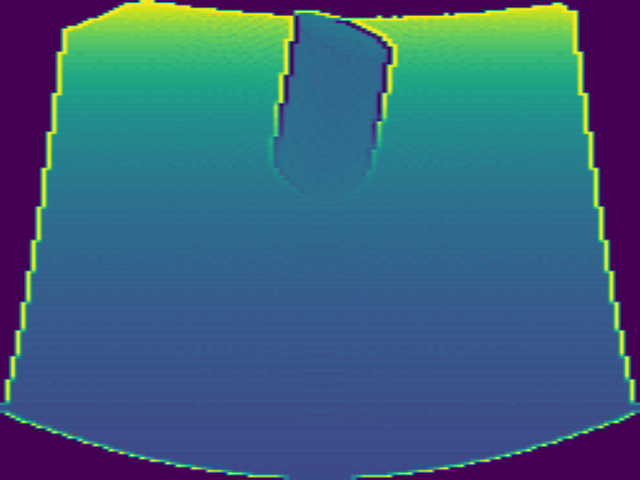cylinder: (269, 7, 396, 196)
